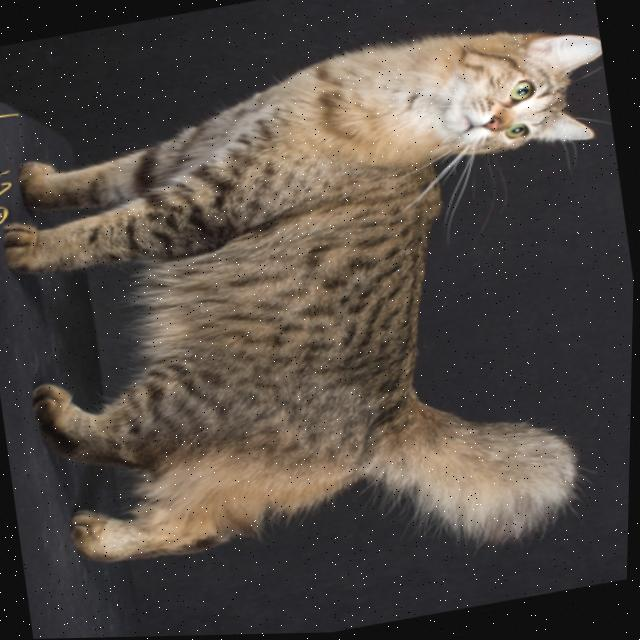American Bobtail: (0, 4, 640, 628)
